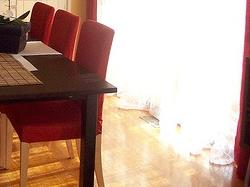chair: (5, 20, 116, 187), (48, 8, 82, 60), (29, 3, 58, 44)
diningtable: (0, 22, 119, 187)
pottedplant: (0, 0, 32, 55)
